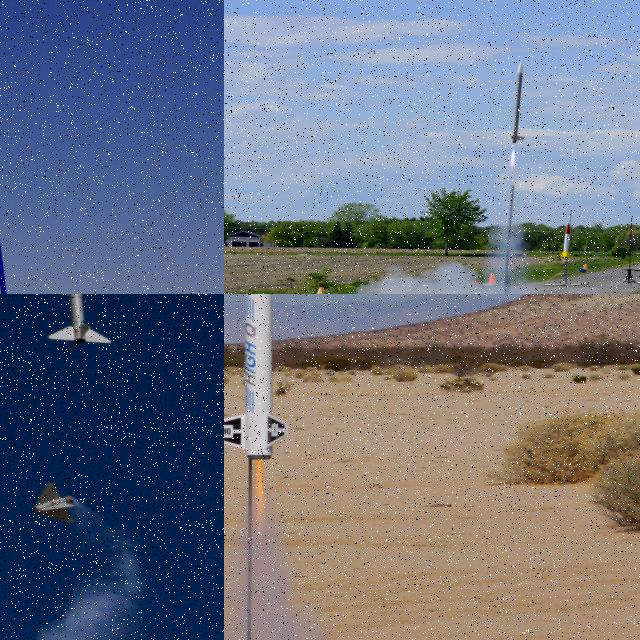Rocket: (224, 294, 293, 460), (46, 294, 113, 353), (508, 62, 525, 143), (0, 222, 17, 294)
